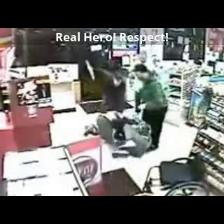person: (133, 64, 167, 151)
